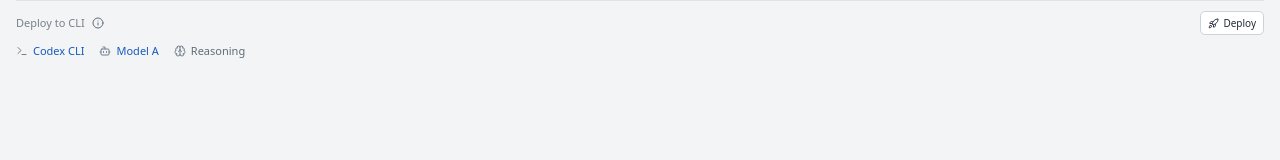
Scenario: reports launch failure without reporting completion or retrying automatically
Click the button "Deploy" at coordinates (1232, 23), box [1200,11,1264,35]
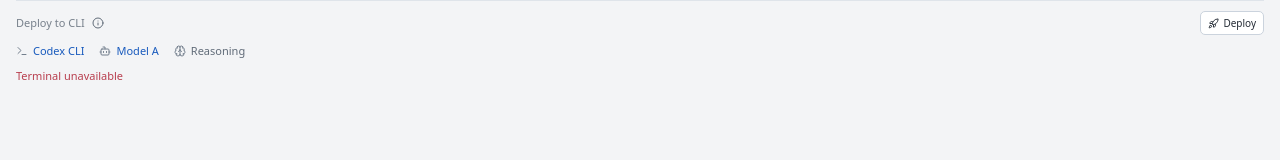
Expected: the message reads "Terminal unavailable", [16,68,123,83]
